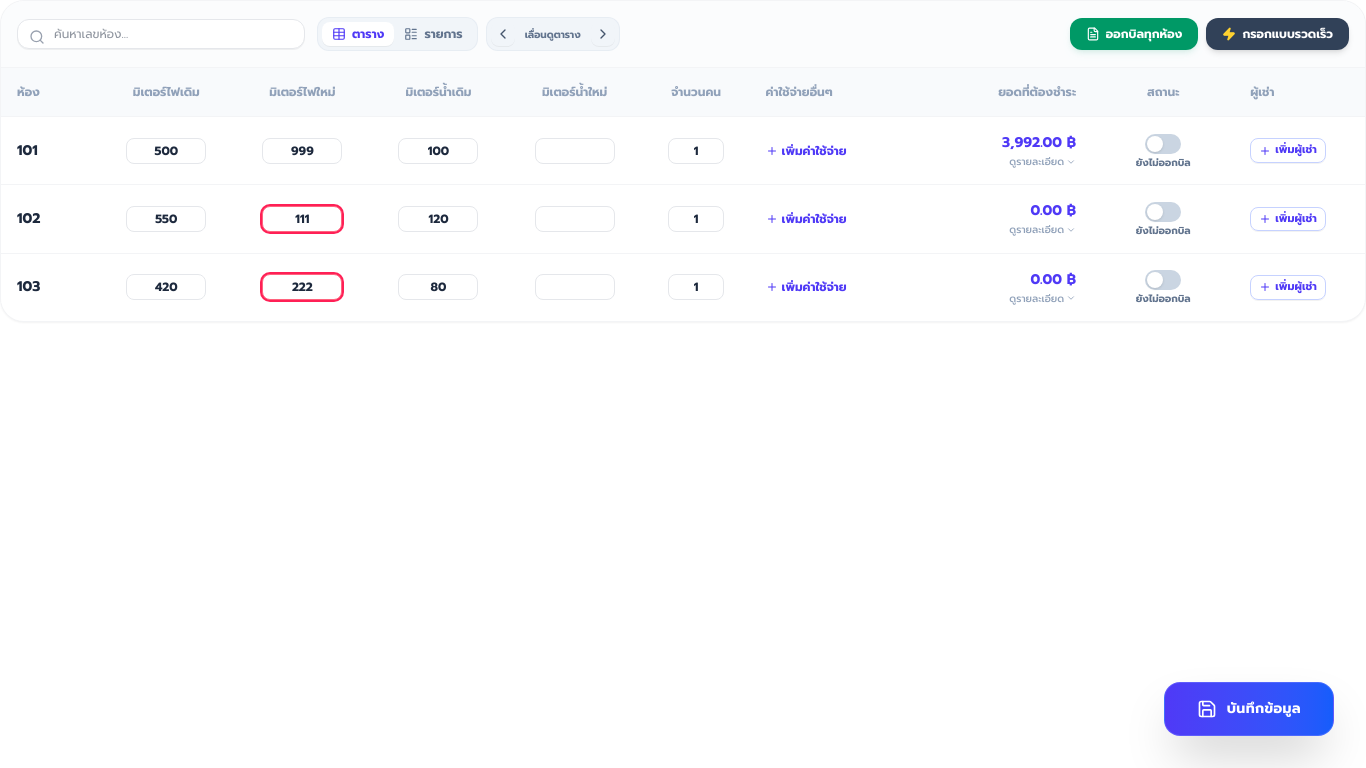
it: Round 2.4J.2: Quick Fill Drag-Fill Authority & Excel Mechanics › Area 5: Round 2.4K Quick Fill Enhancements › verifies sticky thead includes z-30 stacking context so cells never bleed over header
The width and height of the screenshot is (1366, 768).
Click the button "กรอกแบบรวดเร็ว" at x=1278, y=34, box [1206, 18, 1349, 50]
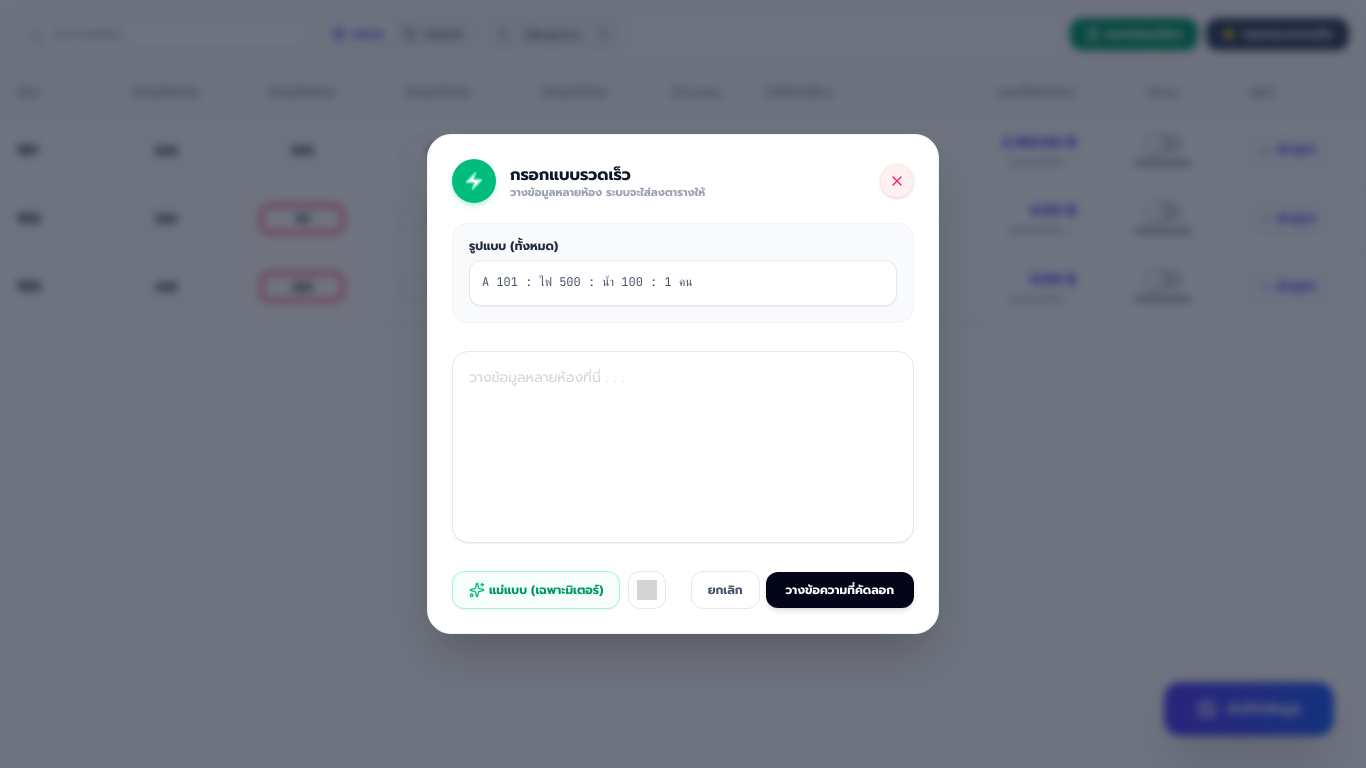
Click the button titled "สลับไปยังโหมดตาราง Excel" at x=647, y=590, box [628, 571, 666, 609]
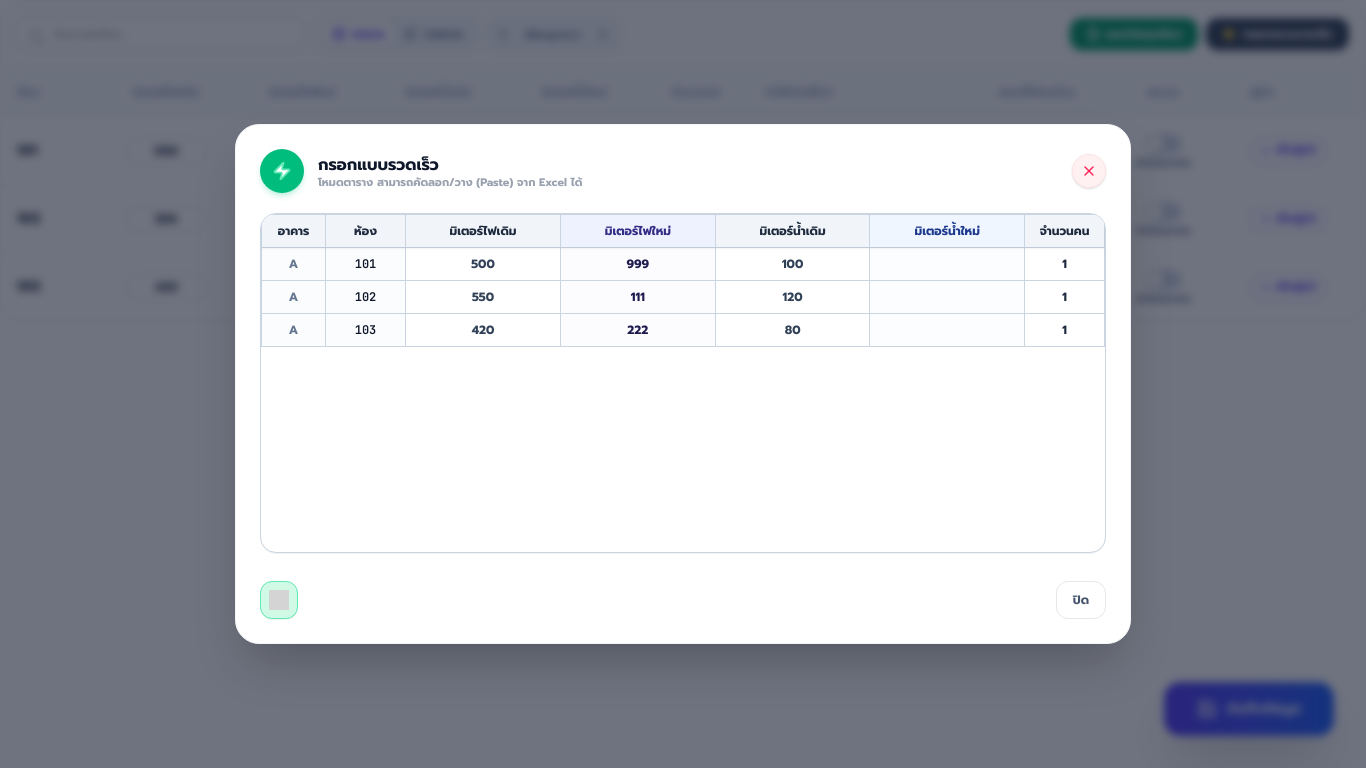
expect the text "โหมดตาราง สามารถคัดลอก/วาง (Paste) จาก Excel ได้" is shown: met, box [318, 176, 582, 188]
expect the element that starts with "อาคาร" is shown: met, box [262, 214, 1104, 248]
